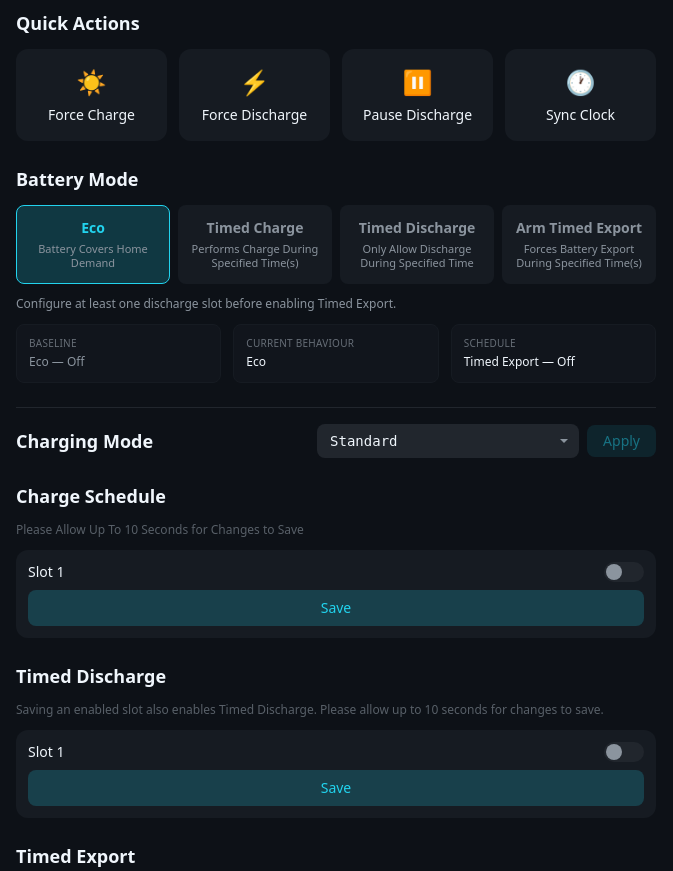
<ControlPage/> — Charge Schedule armed vs not-active (issue #135) › defaults a newly enabled charging slot target to 100%
Click the 1st switch named "Slot 1" at {"x": 624, "y": 572}, box x1=604 y1=562 x2=644 y2=582
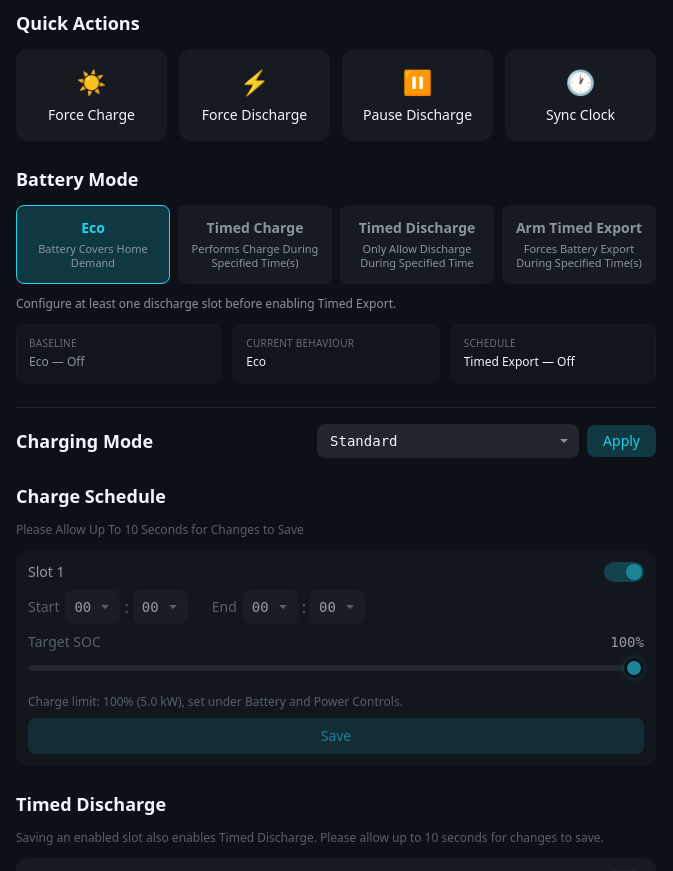
Now the text "100%" is shown, box x1=610 y1=632 x2=644 y2=652
